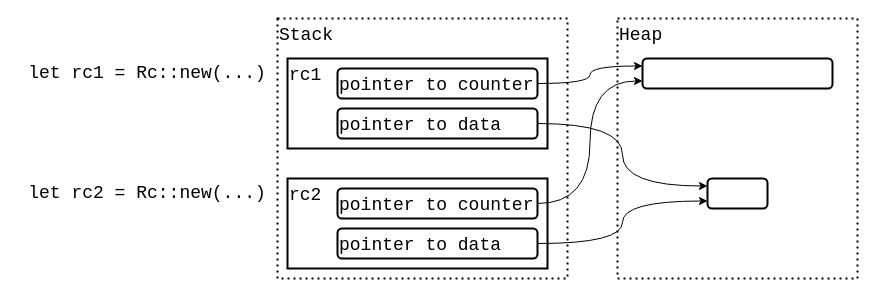
Image size: 875x296. Some labels were removed from this diagram. Each missing label, with the centre of its shape:
data: the point at 737,193
reference counter: the point at 737,73
